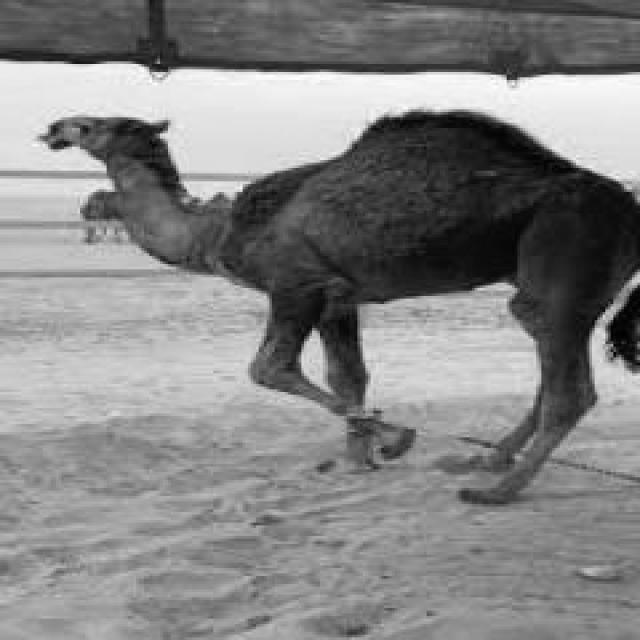Camel: (35, 107, 637, 504)
